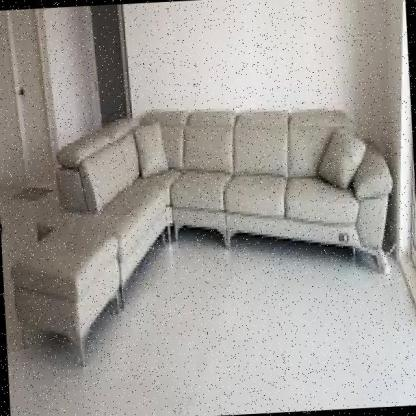Sofa: (0, 76, 416, 393)
